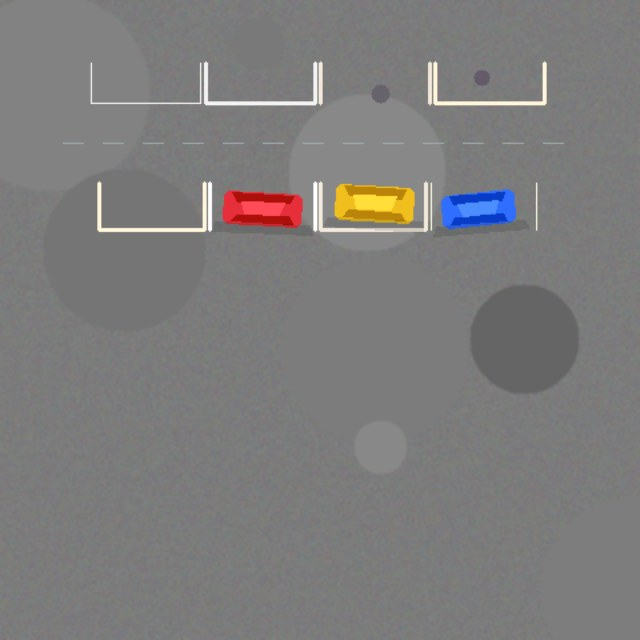space-empty: (99, 183, 204, 229), (205, 63, 315, 103), (91, 63, 200, 103), (320, 63, 429, 103), (435, 63, 544, 103)
space-occupied: (209, 183, 315, 229), (320, 183, 425, 229), (431, 183, 536, 229)
